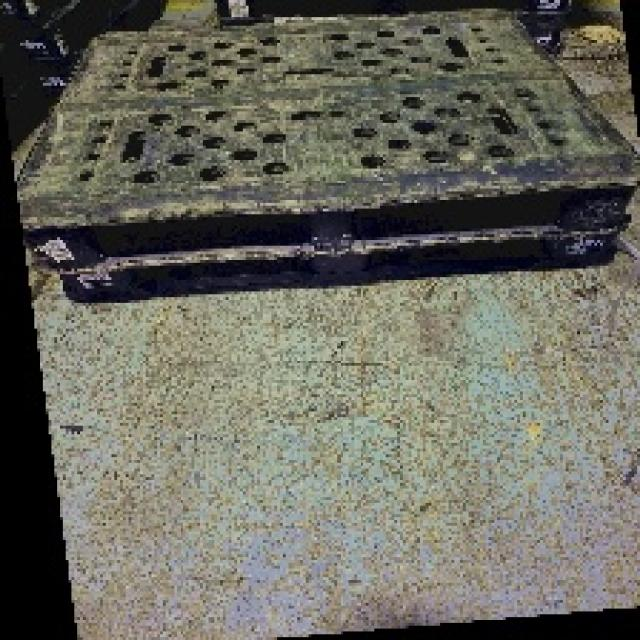igps: (6, 0, 640, 314), (55, 220, 626, 308)
